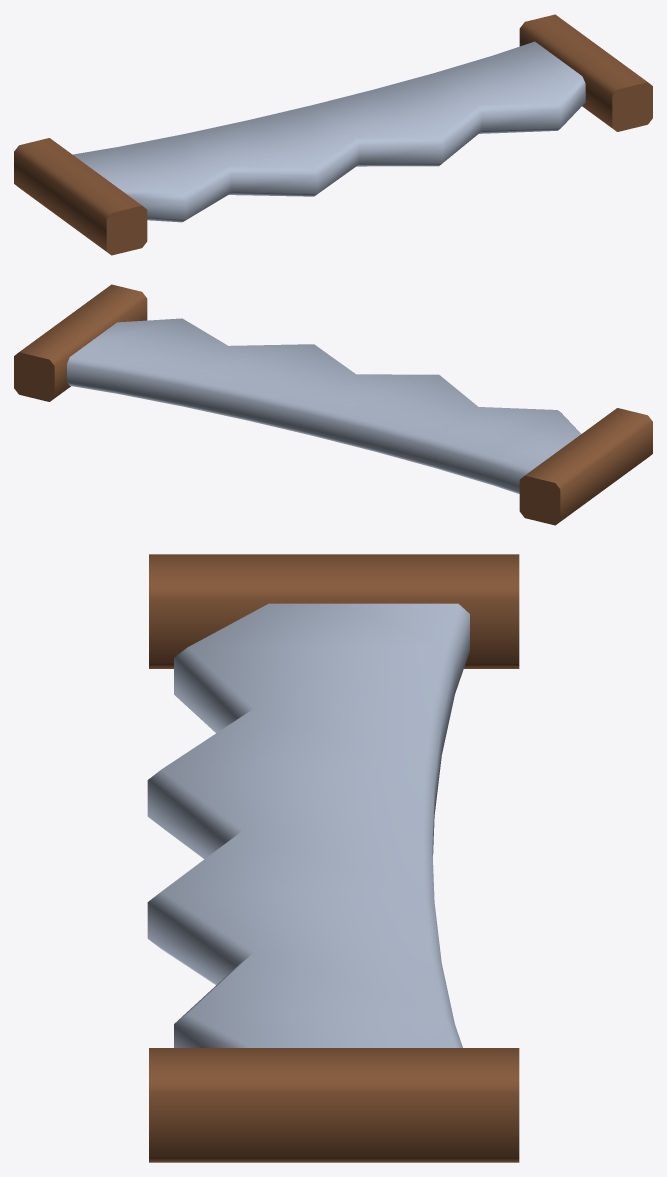
The model's file is Saw.fbx.
The picture shows the model from 3 angles, top to bottom: view 1: azimuth 30°, elevation 25°; view 2: azimuth 150°, elevation 25°; view 3: azimuth 270°, elevation 25°; orthographic projection. The views are drawn at different scales.
Parts seen in each view (by area): view 1: Plane.051, Cube.552; view 2: Plane.051, Cube.552; view 3: Plane.051, Cube.552.
Part boxes in pixels (box(x1,y1,x2,y2)): Plane.051: box(73, 41, 585, 222); Cube.552: box(14, 14, 652, 255); Plane.051: box(67, 318, 580, 493); Cube.552: box(14, 284, 652, 525); Plane.051: box(147, 603, 469, 1047); Cube.552: box(149, 554, 519, 1162).
Size of the model in its own units: 53.68 by 3.99 by 15.8.
